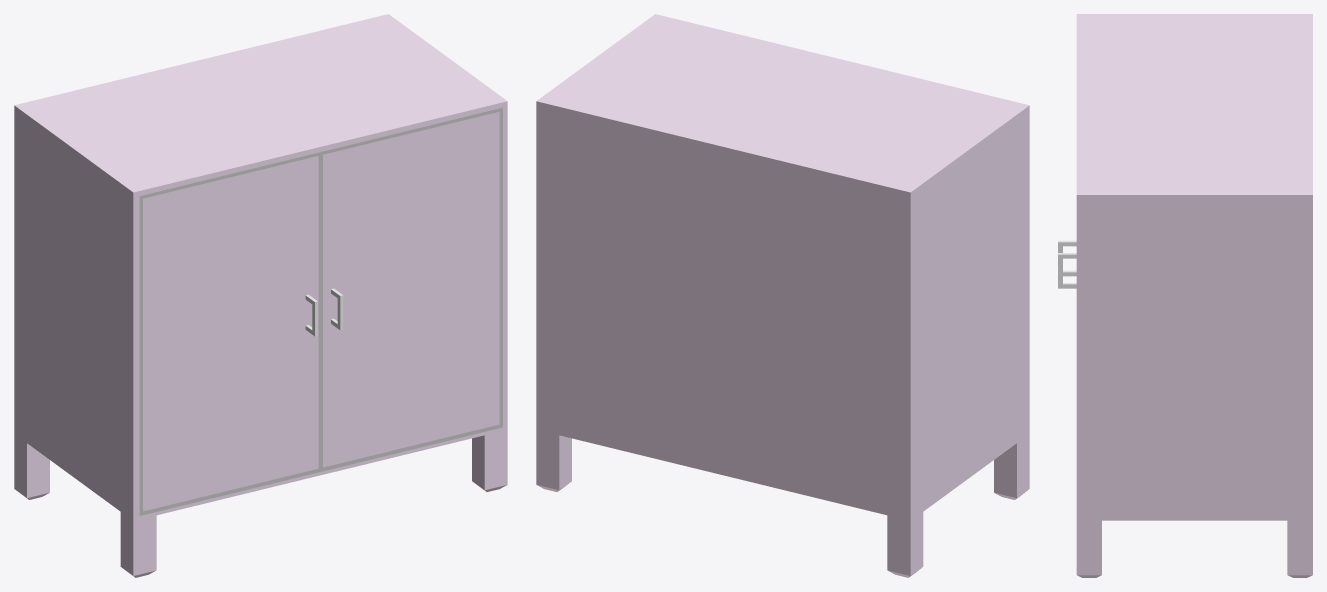
Rendered from cabinet_j.fbx.
3 views of the same model, side by side, from view 1: azimuth 30°, elevation 25°; view 2: azimuth 150°, elevation 25°; view 3: azimuth 270°, elevation 25° (orthographic).
Parts seen in each view (by area): view 1: cabinet_j; view 2: cabinet_j; view 3: cabinet_j.
Part boxes in pixels (x1=…): cabinet_j: x1=14, y1=14, x2=507, y2=577; cabinet_j: x1=536, y1=14, x2=1029, y2=577; cabinet_j: x1=1058, y1=14, x2=1312, y2=577.
Bounding box in the file's own units: 0.9918 × 0.9844 × 0.5897.
